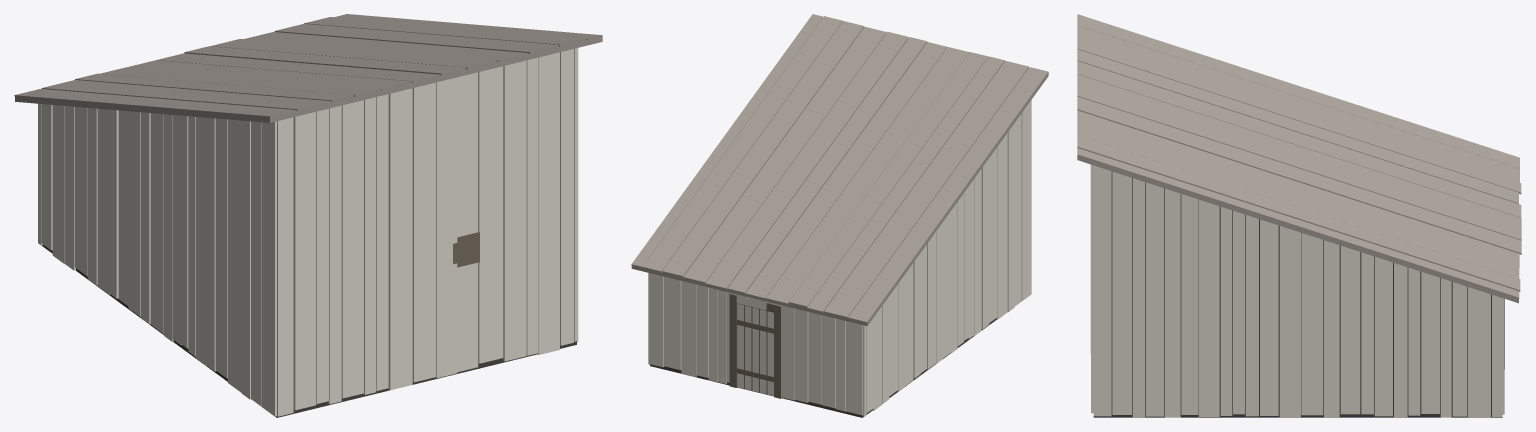
File: recon_1835_blk_randolph_wells_d2_07__inferred_1835.glb
3 renders of one model, left to right at view 1: azimuth 30°, elevation 25°; view 2: azimuth 150°, elevation 25°; view 3: azimuth 270°, elevation 25°, orthographic. The views are drawn at different scales.
Parts seen in each view (by area): view 1: recon_1835_blk_randolph_wells_d2_07__inferred_1835; view 2: recon_1835_blk_randolph_wells_d2_07__inferred_1835; view 3: recon_1835_blk_randolph_wells_d2_07__inferred_1835.
Boxes of the visible parts, <box> form: recon_1835_blk_randolph_wells_d2_07__inferred_1835: <box>14,14,602,417</box>; recon_1835_blk_randolph_wells_d2_07__inferred_1835: <box>631,14,1048,417</box>; recon_1835_blk_randolph_wells_d2_07__inferred_1835: <box>1077,14,1521,417</box>.
Size of the model in its own units: 5.45 by 4.91 by 7.3.
